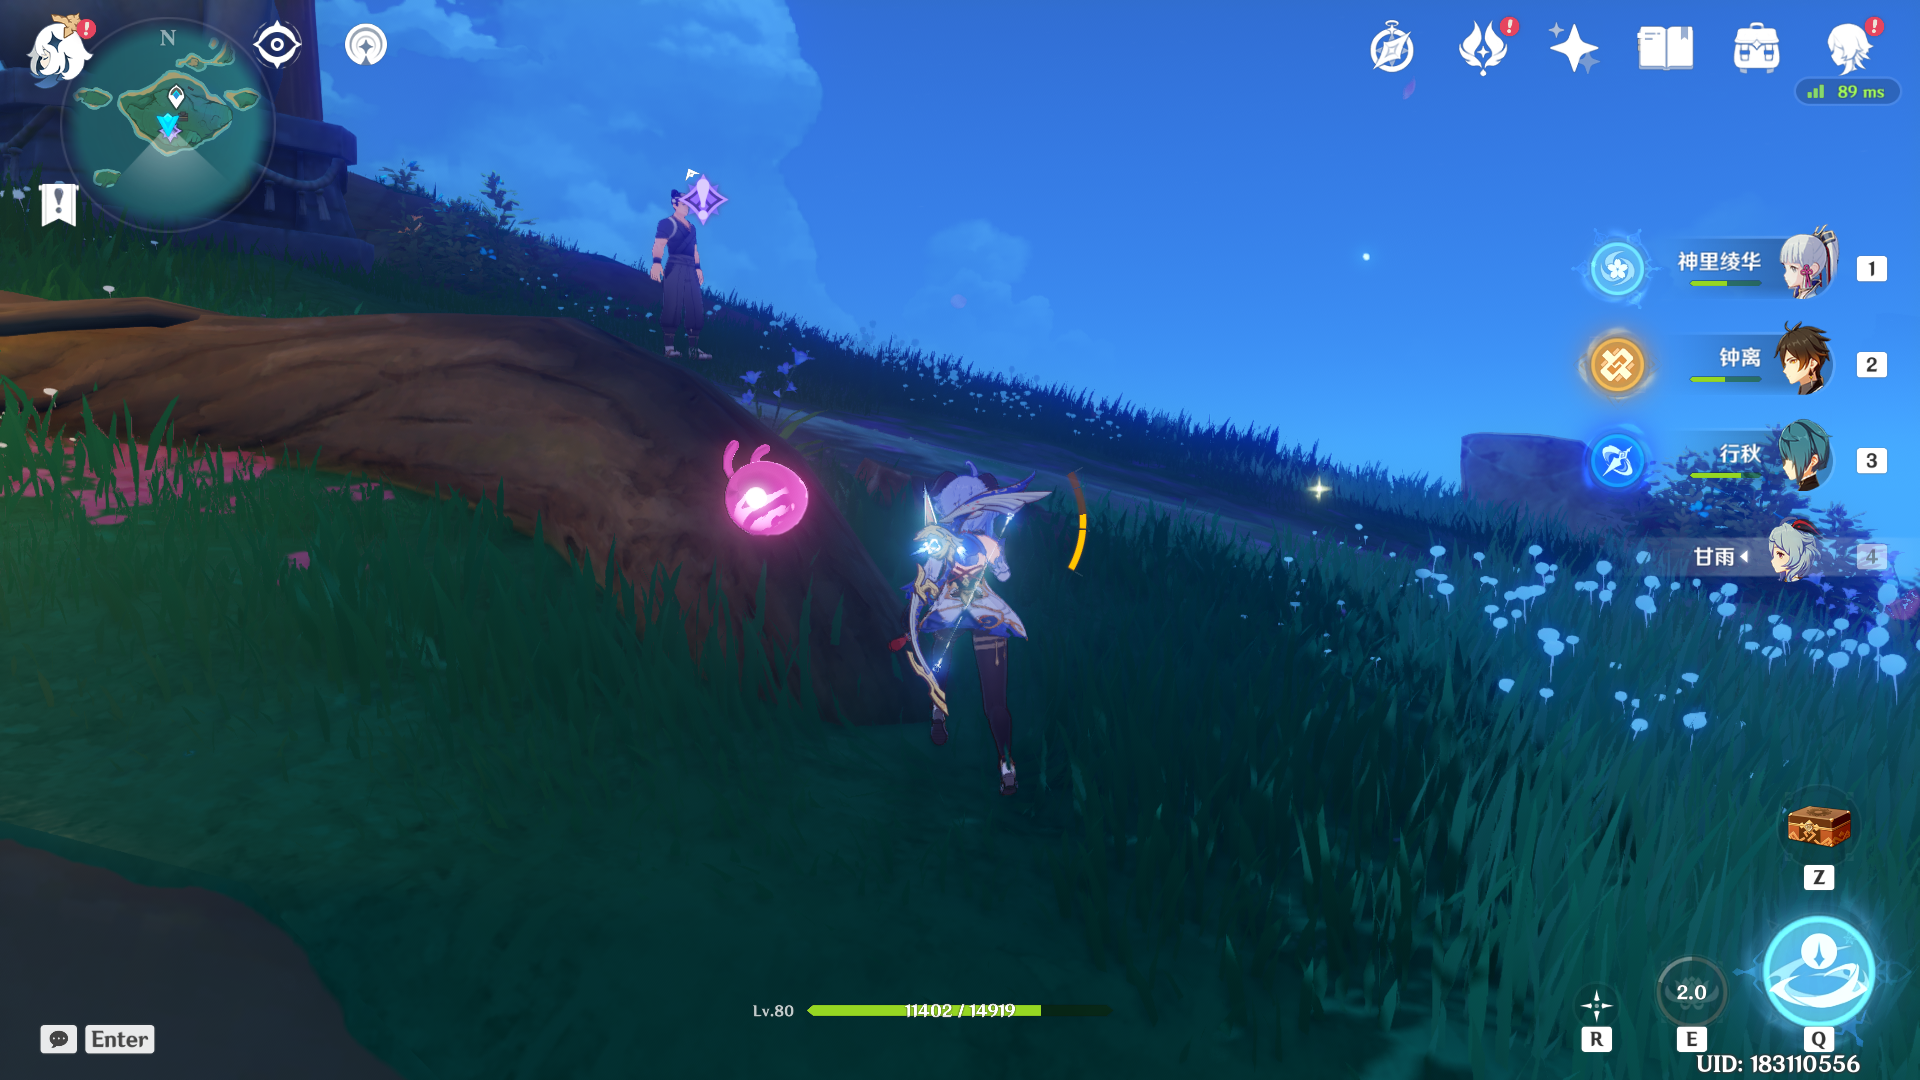character: (880, 431, 1083, 835)
